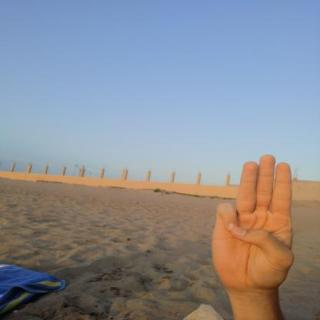THA: (200, 145, 306, 300)
